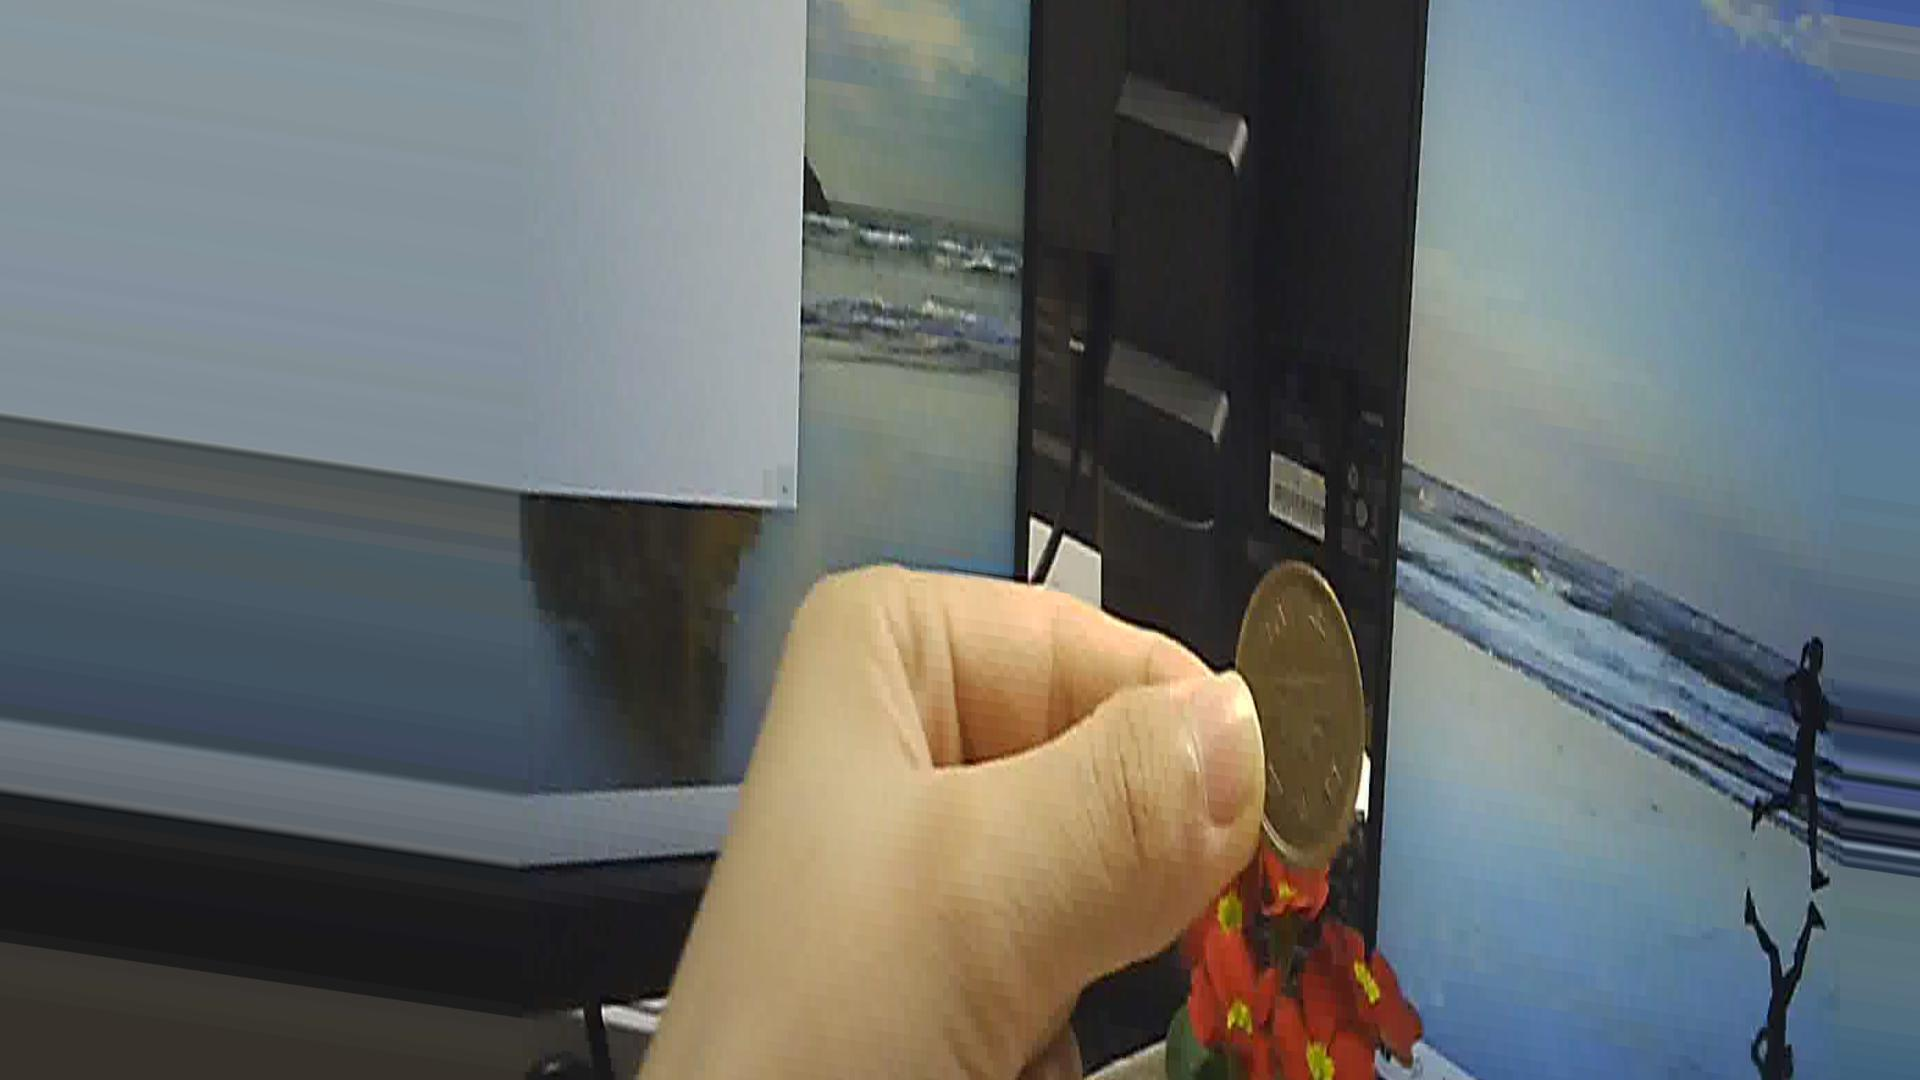10 Yen: (1215, 559, 1377, 885)
